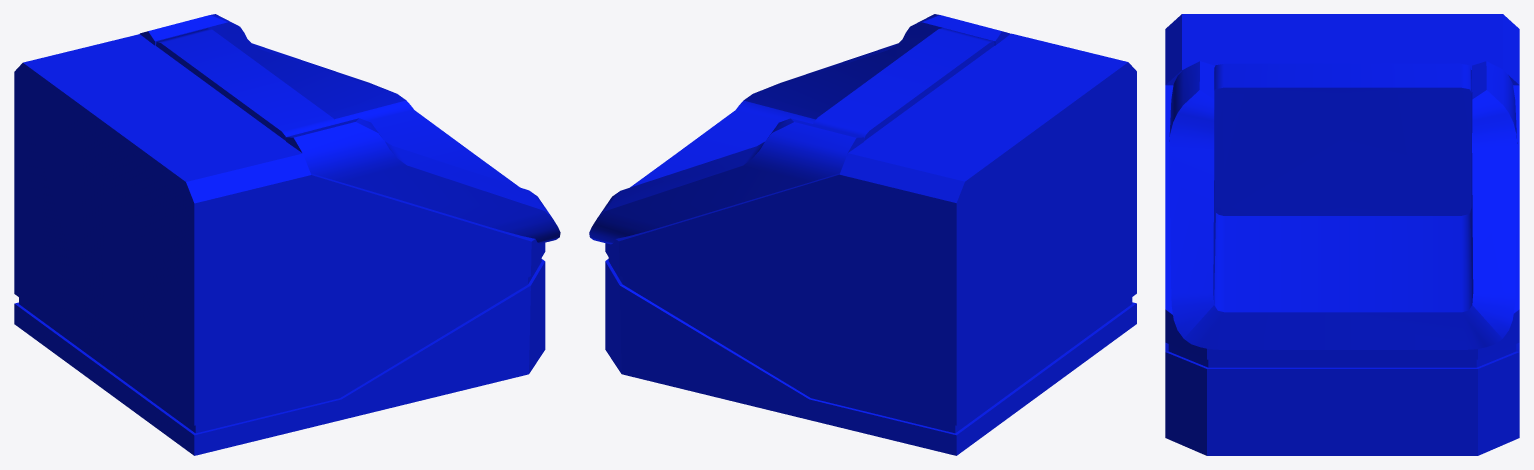
Rendered from SM_Tram_Seat_Small.FBX.
3 views of the same model, side by side, from view 1: azimuth 30°, elevation 25°; view 2: azimuth 150°, elevation 25°; view 3: azimuth 270°, elevation 25° (orthographic).
Visible parts, largest first — view 1: seat_small; view 2: seat_small; view 3: seat_small.
Boxes of the visible parts, x1,y1,x2,y2 form: seat_small: (14, 14, 560, 455); seat_small: (589, 14, 1136, 455); seat_small: (1165, 14, 1519, 455).
Bounding box in the file's own units: 130 × 92.13 × 108.
